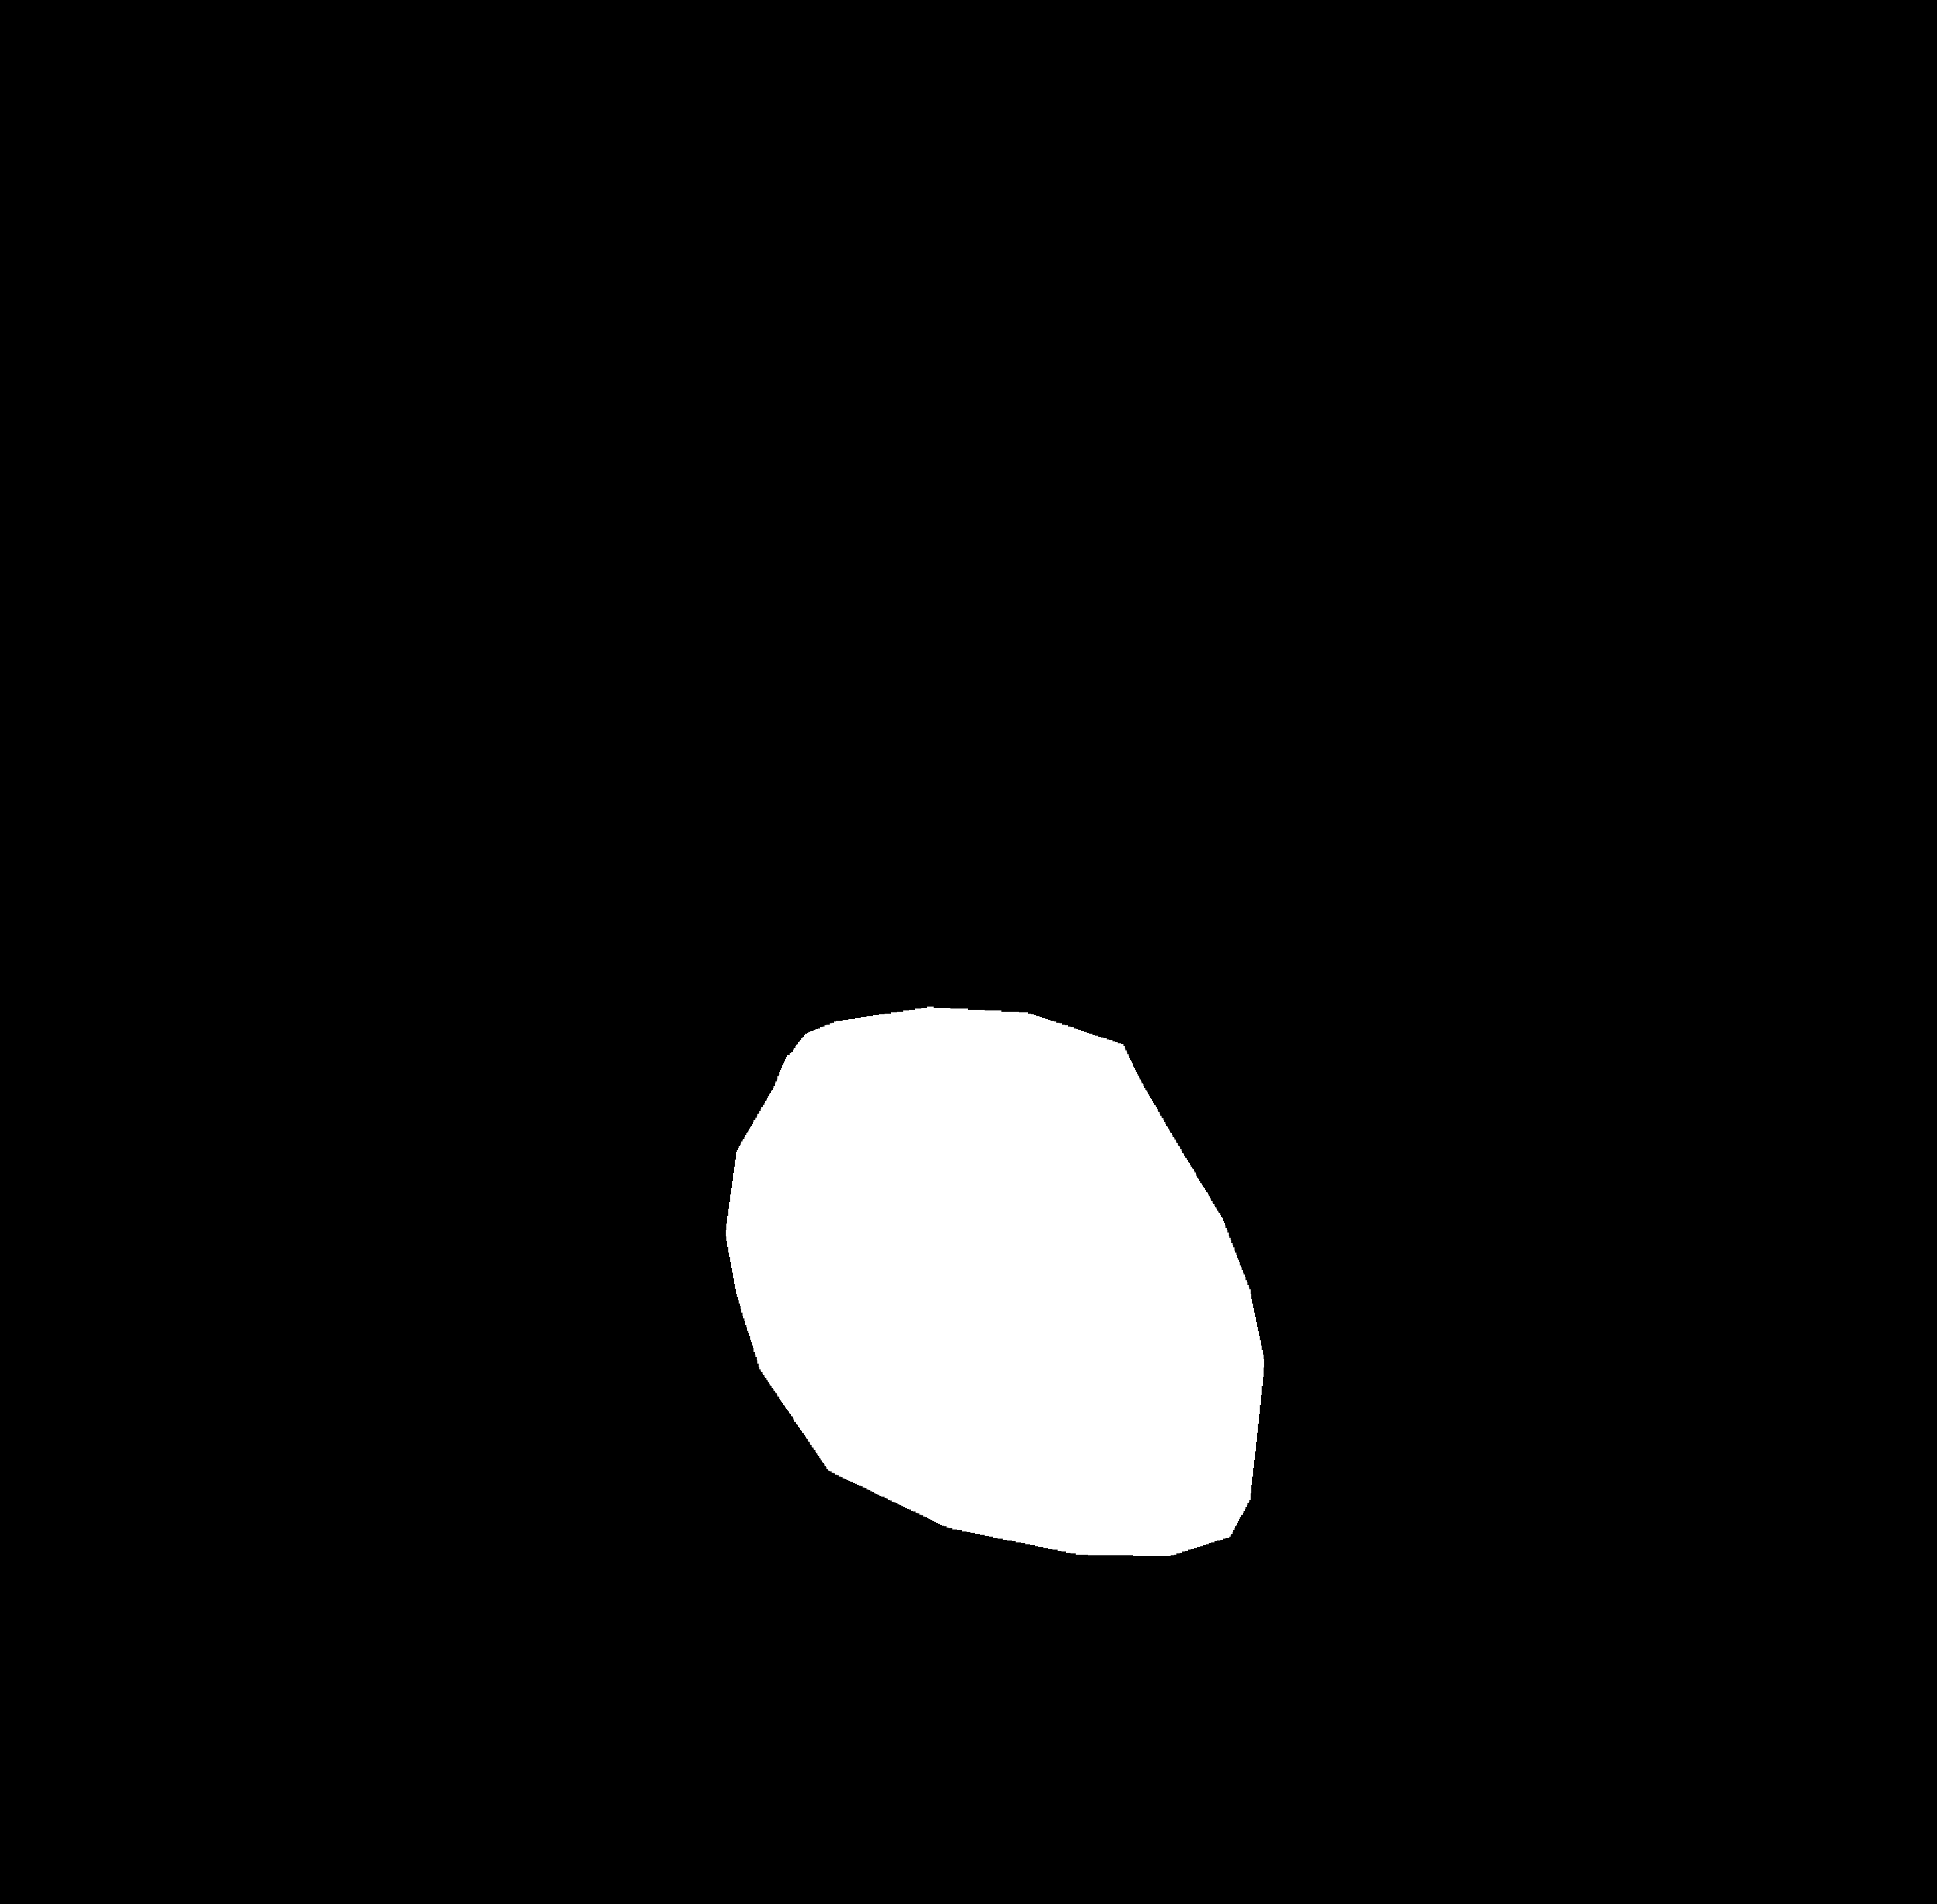heart: (729, 1083, 1264, 1536)
left_lung: (241, 326, 846, 1817)
right_lung: (1020, 326, 1595, 1813)
